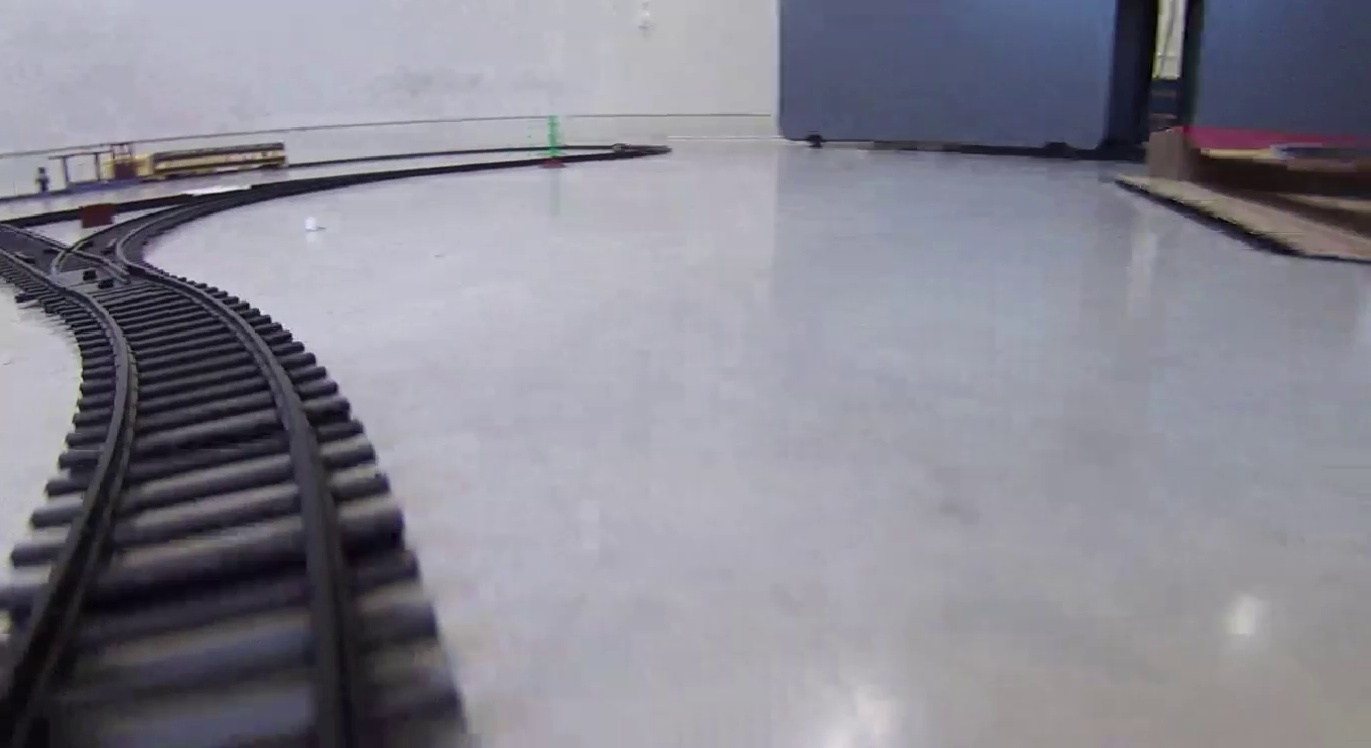box: (77, 206, 115, 226)
